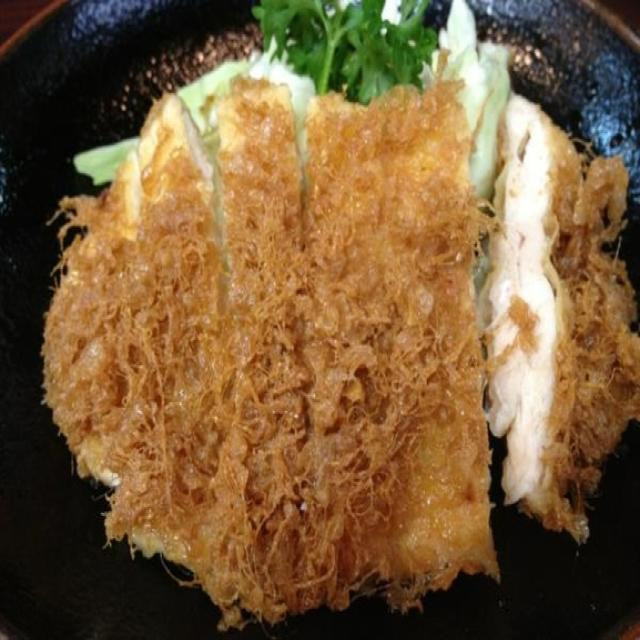鸡肉料理 含炸鸡: (30, 31, 636, 621)
